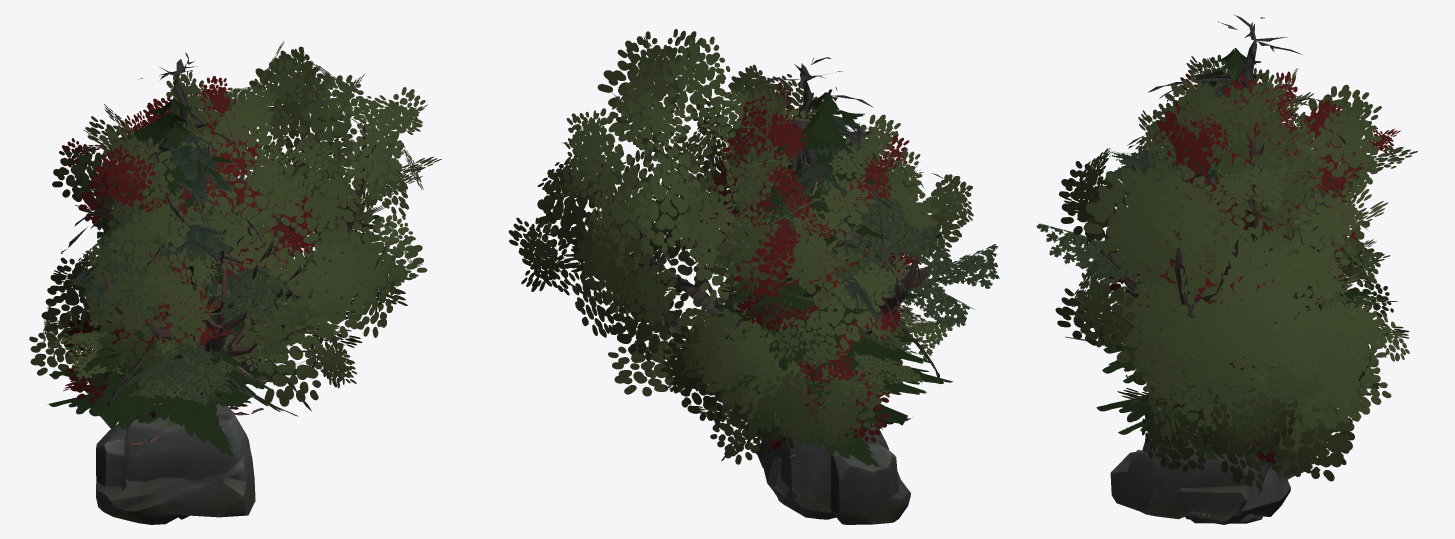
Rendered from forest.glb.
3 views of the same model, side by side, from view 1: azimuth 30°, elevation 25°; view 2: azimuth 150°, elevation 25°; view 3: azimuth 270°, elevation 25° (orthographic). The views are drawn at different scales.
Visible parts, largest first — view 1: tree_twisted_b, tree_twisted_a, boulder_c, tree_twisted_blood, tree_oak_psx, tree_pine_a, tree_pine_b, tree_pine_psx, tree_birch_psx, tree_gnarled_c, tree_gnarled_b, tree_pine_c (+3 smaller); view 2: tree_twisted_a, tree_twisted_b, tree_twisted_blood, tree_oak_psx, boulder_c, tree_pine_a, tree_pine_b, tree_birch_psx, tree_pine_psx, tree_gnarled_c, boulder_a, tree_dead_b (+1 smaller); view 3: tree_twisted_a, tree_twisted_b, boulder_c, tree_twisted_blood, tree_oak_psx, tree_pine_b, boulder_a, tree_gnarled_c, tree_pine_a, tree_pine_psx.
Part boxes in pixels (left/top/right/bottom): tree_twisted_b: left=29, top=72, right=364, bottom=391; tree_twisted_a: left=91, top=41, right=441, bottom=406; boulder_c: left=96, top=403, right=255, bottom=524; tree_twisted_blood: left=59, top=76, right=316, bottom=417; tree_oak_psx: left=85, top=204, right=292, bottom=405; tree_pine_a: left=49, top=98, right=275, bottom=445; tree_pine_b: left=49, top=209, right=298, bottom=456; tree_pine_psx: left=73, top=133, right=277, bottom=382; tree_birch_psx: left=48, top=269, right=294, bottom=402; tree_gnarled_c: left=61, top=52, right=311, bottom=411; tree_gnarled_b: left=74, top=138, right=258, bottom=323; tree_pine_c: left=82, top=272, right=251, bottom=428; tree_twisted_a: left=508, top=29, right=906, bottom=448; tree_twisted_b: left=660, top=64, right=973, bottom=464; tree_twisted_blood: left=709, top=82, right=923, bottom=455; tree_oak_psx: left=758, top=192, right=999, bottom=368; boulder_c: left=755, top=422, right=910, bottom=524; tree_pine_a: left=713, top=92, right=952, bottom=429; tree_pine_b: left=714, top=159, right=928, bottom=466; tree_birch_psx: left=789, top=294, right=953, bottom=412; tree_pine_psx: left=752, top=115, right=923, bottom=320; tree_gnarled_c: left=686, top=57, right=939, bottom=377; boulder_a: left=763, top=456, right=836, bottom=519; tree_dead_b: left=796, top=248, right=918, bottom=318; tree_twisted_a: left=1055, top=68, right=1409, bottom=491; tree_twisted_b: left=1059, top=54, right=1417, bottom=476; boulder_c: left=1110, top=407, right=1303, bottom=519; tree_twisted_blood: left=1109, top=69, right=1400, bottom=463; tree_oak_psx: left=1036, top=169, right=1339, bottom=316; tree_pine_b: left=1096, top=166, right=1387, bottom=459; boulder_a: left=1185, top=467, right=1290, bottom=524; tree_gnarled_c: left=1096, top=14, right=1363, bottom=459; tree_pine_a: left=1098, top=48, right=1344, bottom=457; tree_pine_psx: left=1065, top=86, right=1277, bottom=341.
Size of the model in its own units: 13.71 by 14.91 by 10.83.
Materials: 21 (21 with a texture image).
